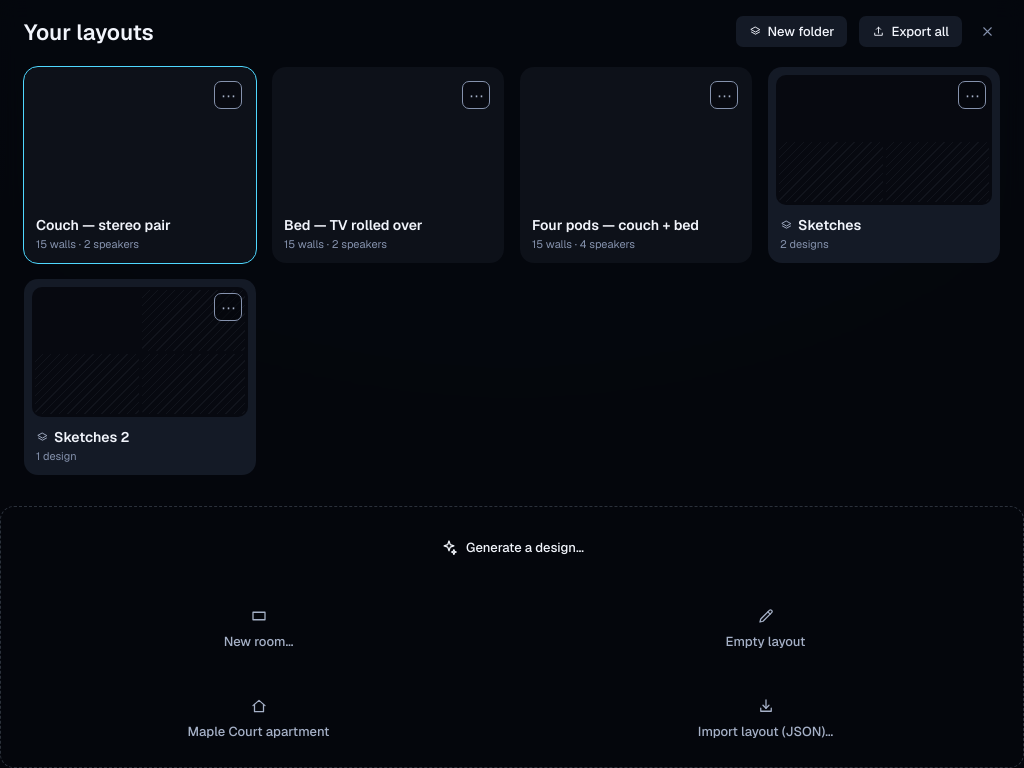
Test case: move mode — the non-dragging path WCAG 2.5.7 requires › offers the same thing to a single pointer — the actual 2.5.7 requirement
Click the 1st button "⋯". click: (228, 95)
box: [214, 81, 242, 109]
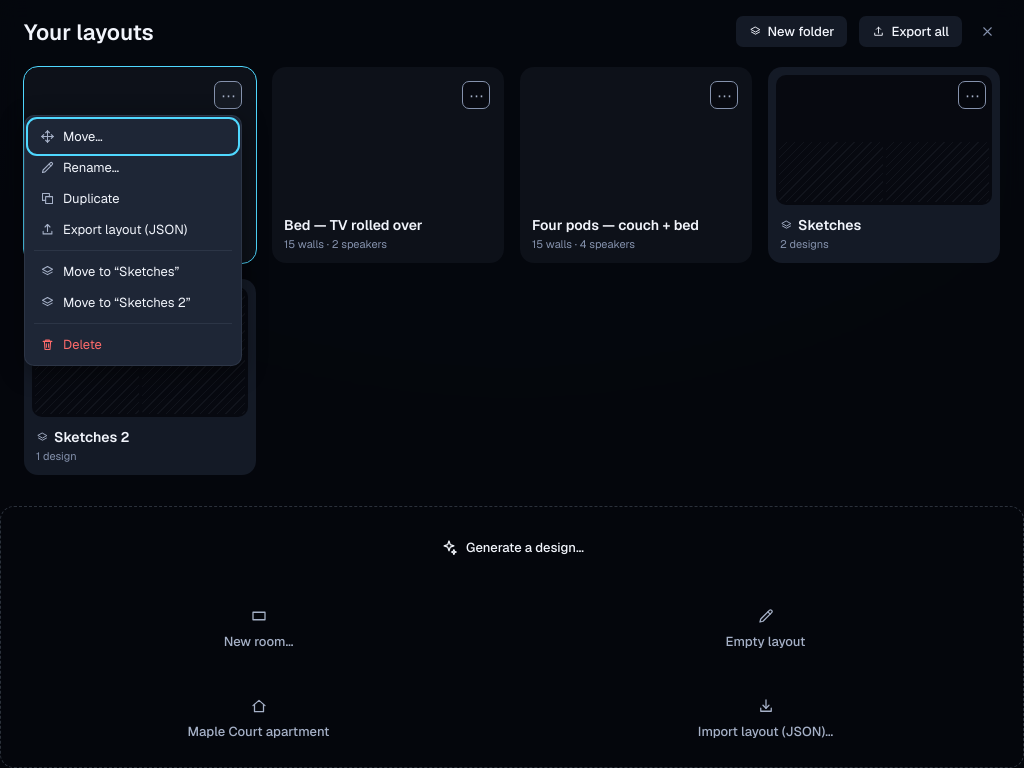
Expected: the menu item "Move…" is shown, [30, 121, 236, 152]
